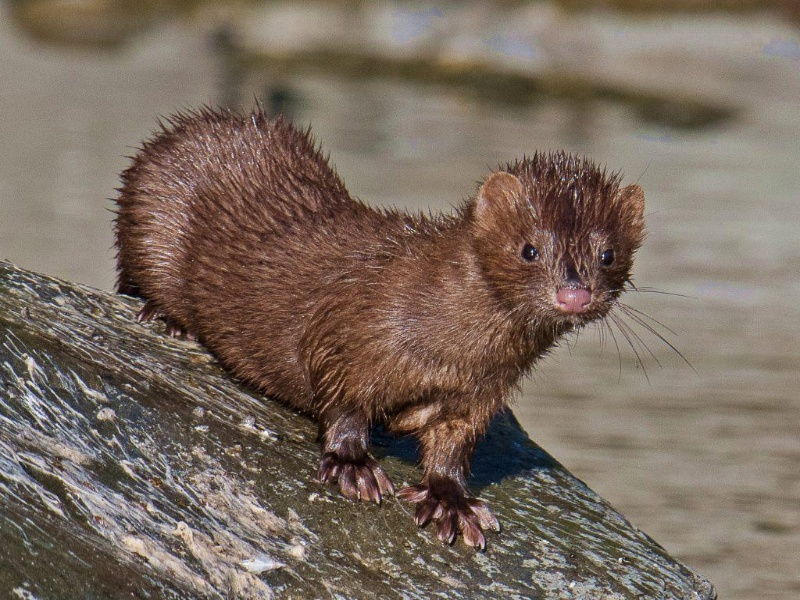minkish: (109, 97, 649, 549)
